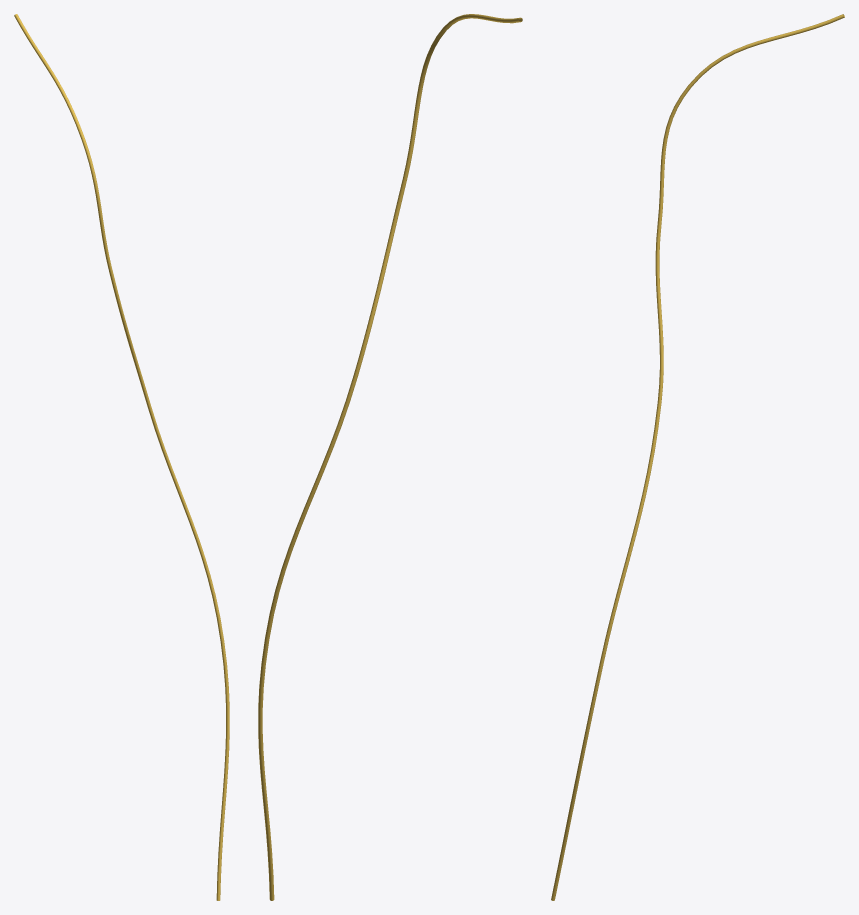
The model's file is Genitofemoral_nerve_left.glb.
3 renders of one model, left to right at view 1: azimuth 30°, elevation 25°; view 2: azimuth 210°, elevation 25°; view 3: azimuth 270°, elevation 25°, orthographic. The views are drawn at different scales.
Visible parts, largest first — view 1: Genitofemoral_nerve.l_BezierCurve.526; view 2: Genitofemoral_nerve.l_BezierCurve.526; view 3: Genitofemoral_nerve.l_BezierCurve.526.
Boxes of the visible parts, box(x1,y1,x2,y2) form: Genitofemoral_nerve.l_BezierCurve.526: box(14, 14, 229, 900); Genitofemoral_nerve.l_BezierCurve.526: box(258, 14, 522, 900); Genitofemoral_nerve.l_BezierCurve.526: box(551, 14, 844, 900).
Bounding box in the file's own units: 0.0318 × 0.2396 × 0.0749.
